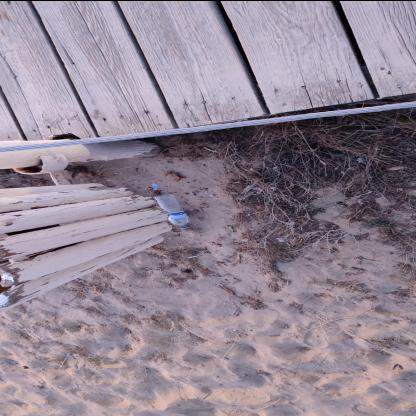plastik: (152, 192, 190, 228)
